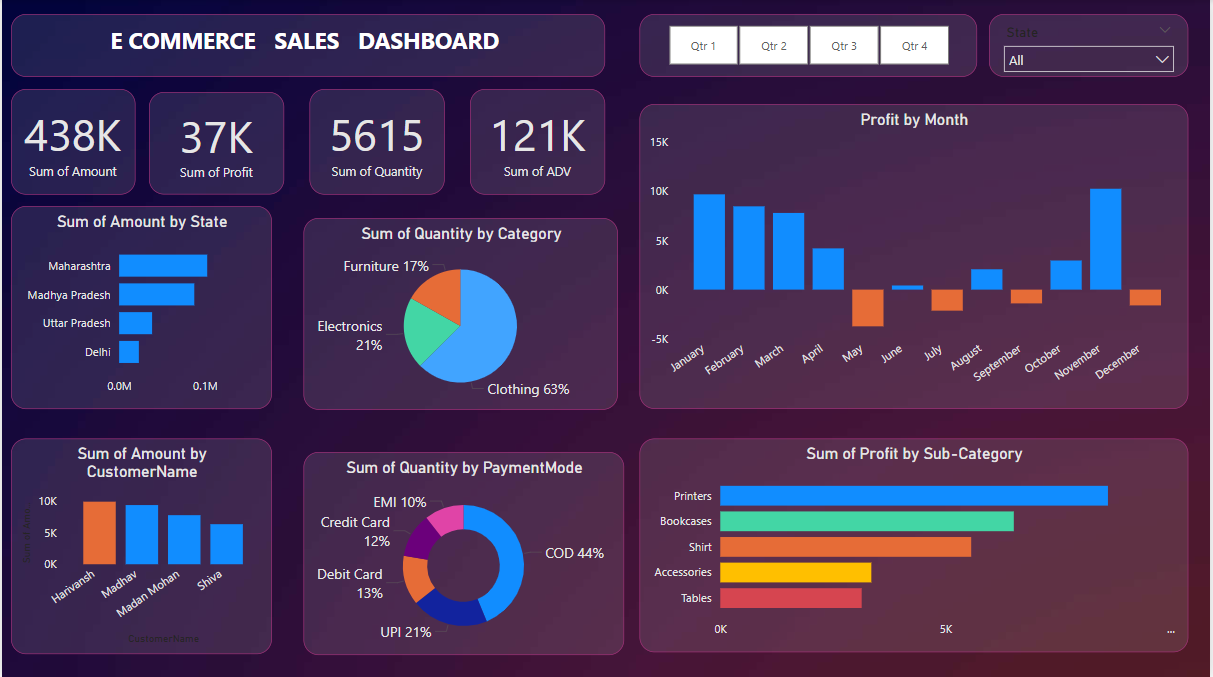

Layout of this report page (visuals, bound fields, positions):
{"tool":"powerbi","page":{"name":"Page 1","canvas":[1280,720],"ordinal":0},"visuals":[{"type":"columnChart","title":" Profit by Month","fields":{"Y":["Details.Profit"],"Category":["Orders.Order Date.Variation.Date Hierarchy.Month"]},"box":[676.7,111.7,581.7,323.3],"z":0},{"type":"barChart","fields":{"Category":["Details.Sub-Category"],"Y":["Details.Profit"]},"box":[676.7,466.7,581.7,226.7],"z":1000},{"type":"pieChart","fields":{"Category":["Details.Category"],"Y":["Details.Quantity"]},"box":[320,231.7,333.3,203.3],"z":2000},{"type":"card","fields":{"Values":["Details.Amount"]},"box":[10,95,131.7,111.7],"z":3000},{"type":"card","fields":{"Values":["Details.Profit"]},"box":[156.7,98.3,143.3,108.3],"z":4000},{"type":"card","fields":{"Values":["Details.Quantity"]},"box":[326.7,95,143.3,111.7],"z":5000},{"type":"card","fields":{"Values":["Details.ADV"]},"box":[496.7,95,143.3,111.7],"z":6000},{"type":"donutChart","fields":{"Category":["Details.PaymentMode"],"Y":["Details.Quantity"]},"box":[320,480,340,215],"z":7000},{"type":"clusteredBarChart","fields":{"Category":["Orders.State"],"Y":["Details.Amount"]},"box":[10,220,276.7,215],"z":8000},{"type":"columnChart","fields":{"Category":["Orders.CustomerName"],"Y":["Details.Amount"]},"box":[10,466.7,276.7,228.3],"z":9000},{"type":"textbox","box":[9.5,15.9,629.9,66.8],"z":10000},{"type":"slicer","fields":{"Values":["Orders.Order Date.Variation.Date Hierarchy.Quarter"]},"box":[676,15.9,357.9,66.8],"z":11000},{"type":"slicer","fields":{"Values":["Orders.State"]},"box":[1046.6,15.9,211.6,66.8],"z":12000}]}

Visuals, with their boxes in screenshot pixels (x1, y1, x2, y2), scaled from the page's 1280x720 canvas onto the 1213x677 screenshot:
" Profit by Month" columnChart: 641, 105, 1193, 409
barChart - Details.Sub-Category x Details.Profit: 641, 439, 1193, 652
pieChart - Details.Category x Details.Quantity: 303, 218, 619, 409
card - Details.Amount: 9, 89, 134, 194
card - Details.Profit: 148, 92, 284, 194
card - Details.Quantity: 310, 89, 445, 194
card - Details.ADV: 471, 89, 606, 194
donutChart - Details.PaymentMode x Details.Quantity: 303, 451, 625, 653
clusteredBarChart - Orders.State x Details.Amount: 9, 207, 272, 409
columnChart - Orders.CustomerName x Details.Amount: 9, 439, 272, 653
textbox: 9, 15, 606, 78
slicer - Orders.Order Date.Variation.Date Hierarchy.Quarter: 641, 15, 980, 78
slicer - Orders.State: 992, 15, 1192, 78
